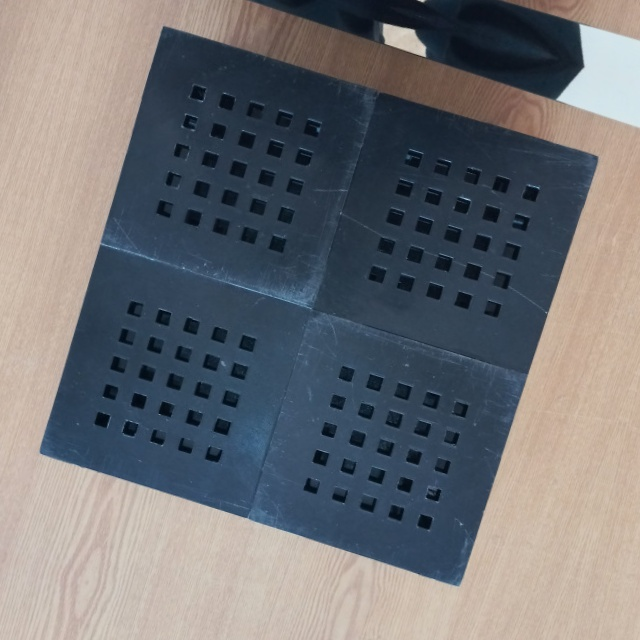pallet: (28, 14, 607, 588)
